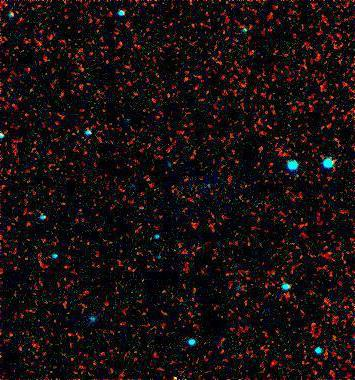star: (157, 362, 187, 380)
